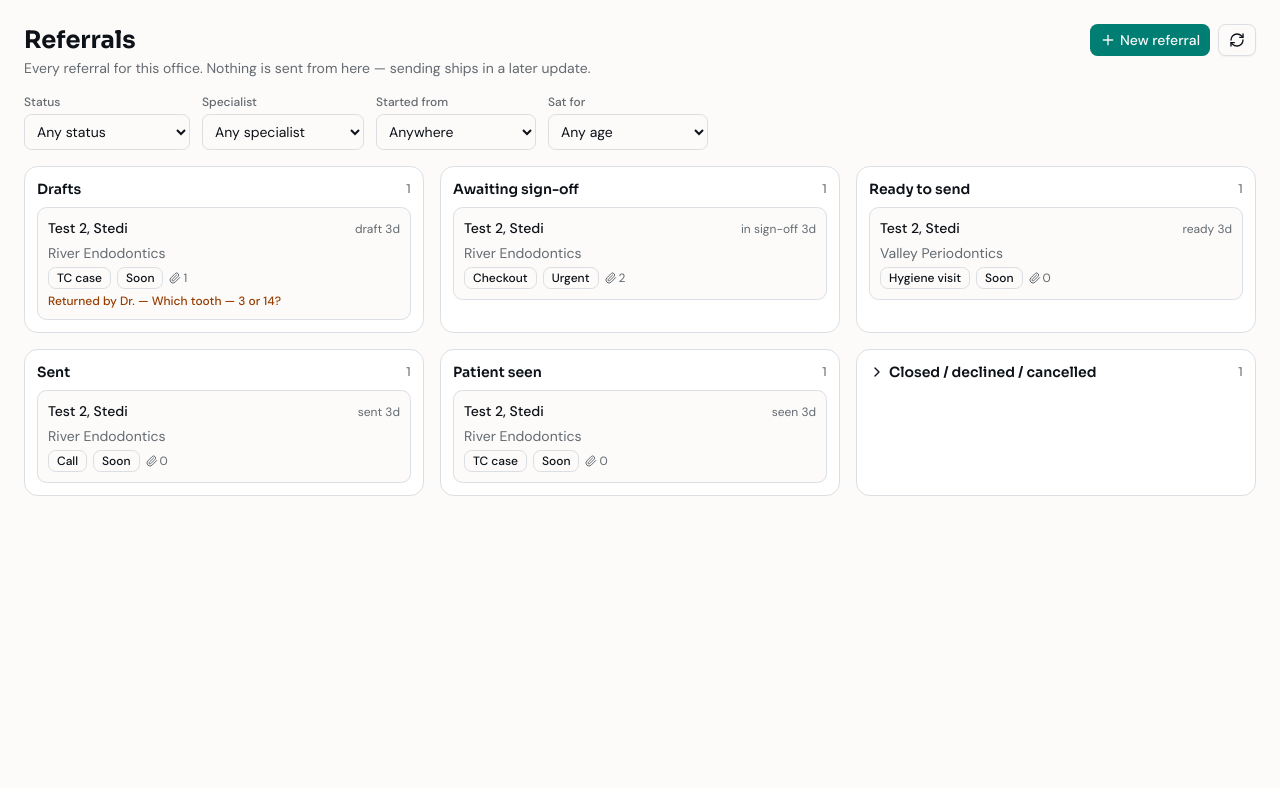
Scenario: the detail panel › a draft: history, files, and an edit that sends only what changed and shows the SERVER's answer
This screenshot has width=1280, height=788.
Click the 1st button with test id "tc-hub-card".
click(88, 228)  # box [37,207,411,320]
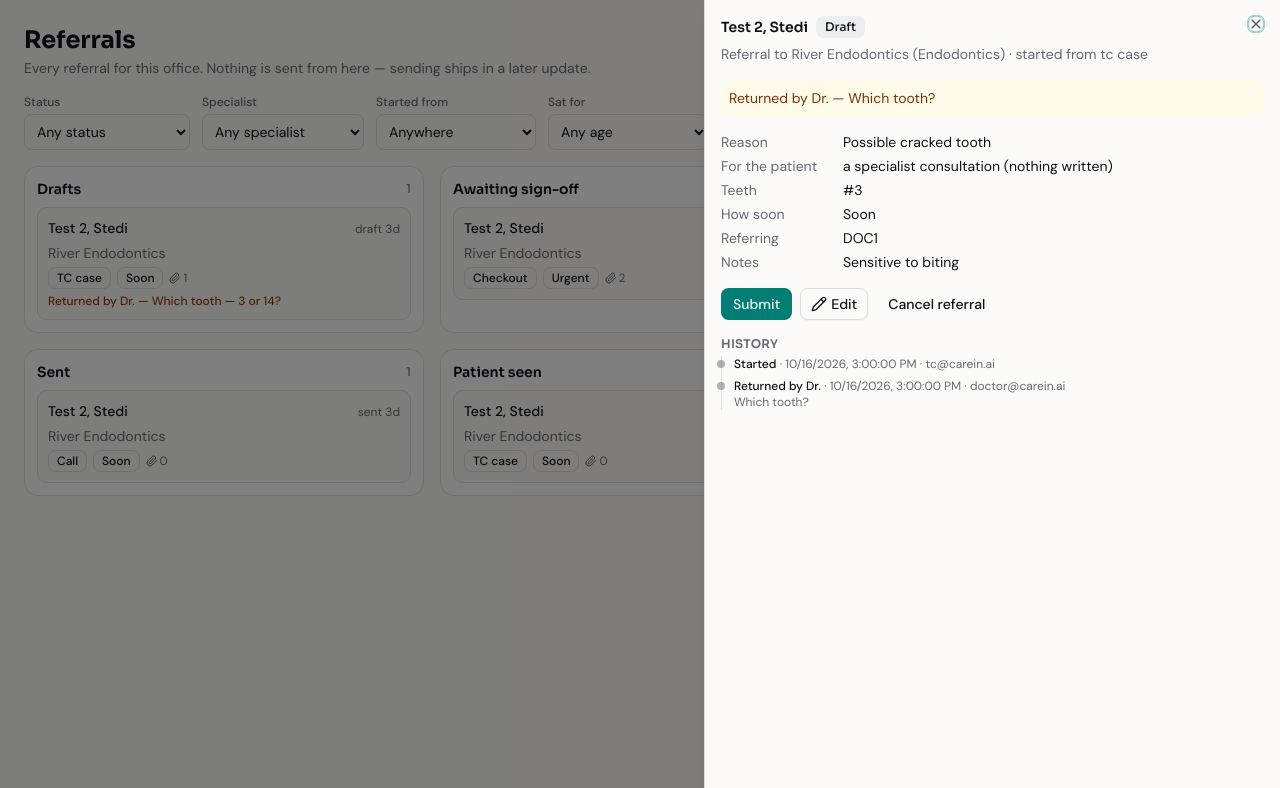
Result: the list with test id "referral-timeline" is shown at [721,356,1264,410]
Result: the text with test id "tc-hub-detail-returned" reads "Returned by Dr. — Which tooth?" at [729,89,935,107]
Result: the list with test id "referral-timeline" shows "Returned by Dr." at [734,378,821,394]
Click the button "Edit".
click(834, 304)  # box [800,288,868,320]
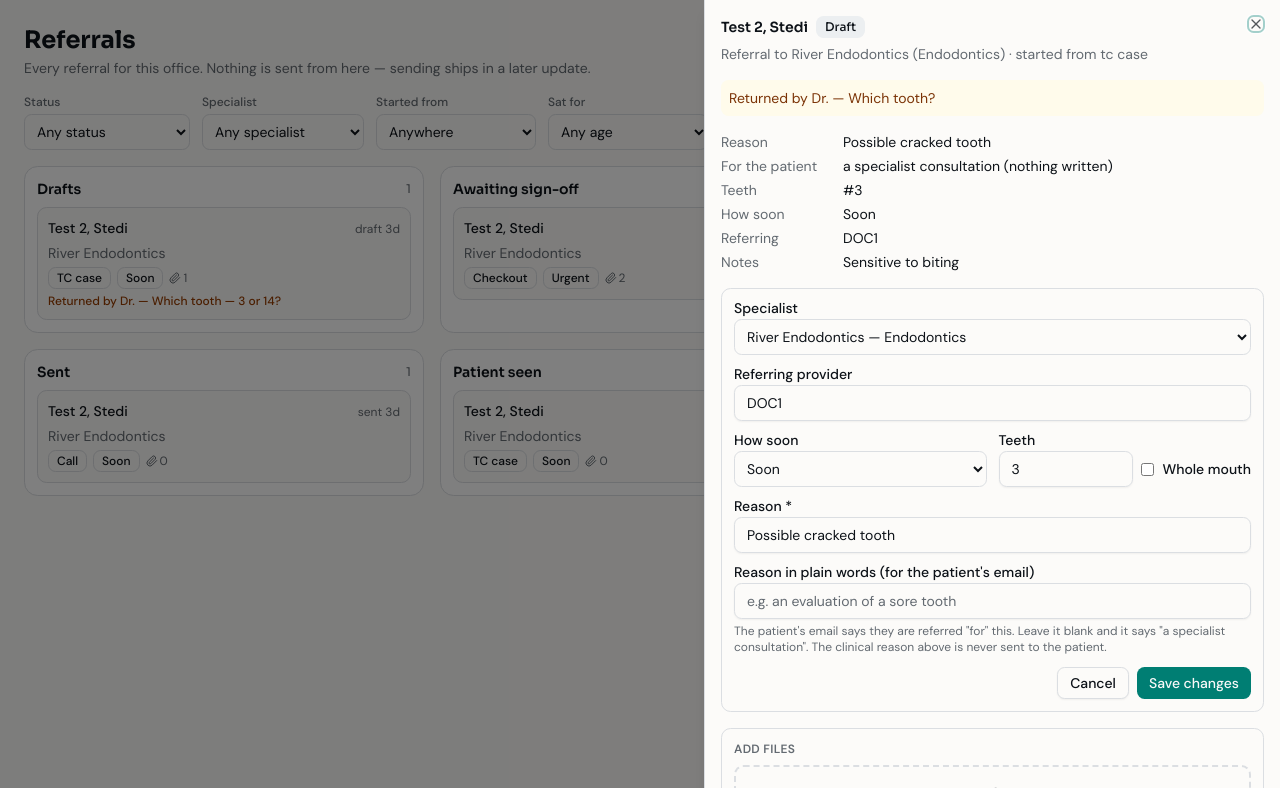
Select "Urgent" in the dropdown labelled "How soon" at [860, 469], box [734,451,986,487]
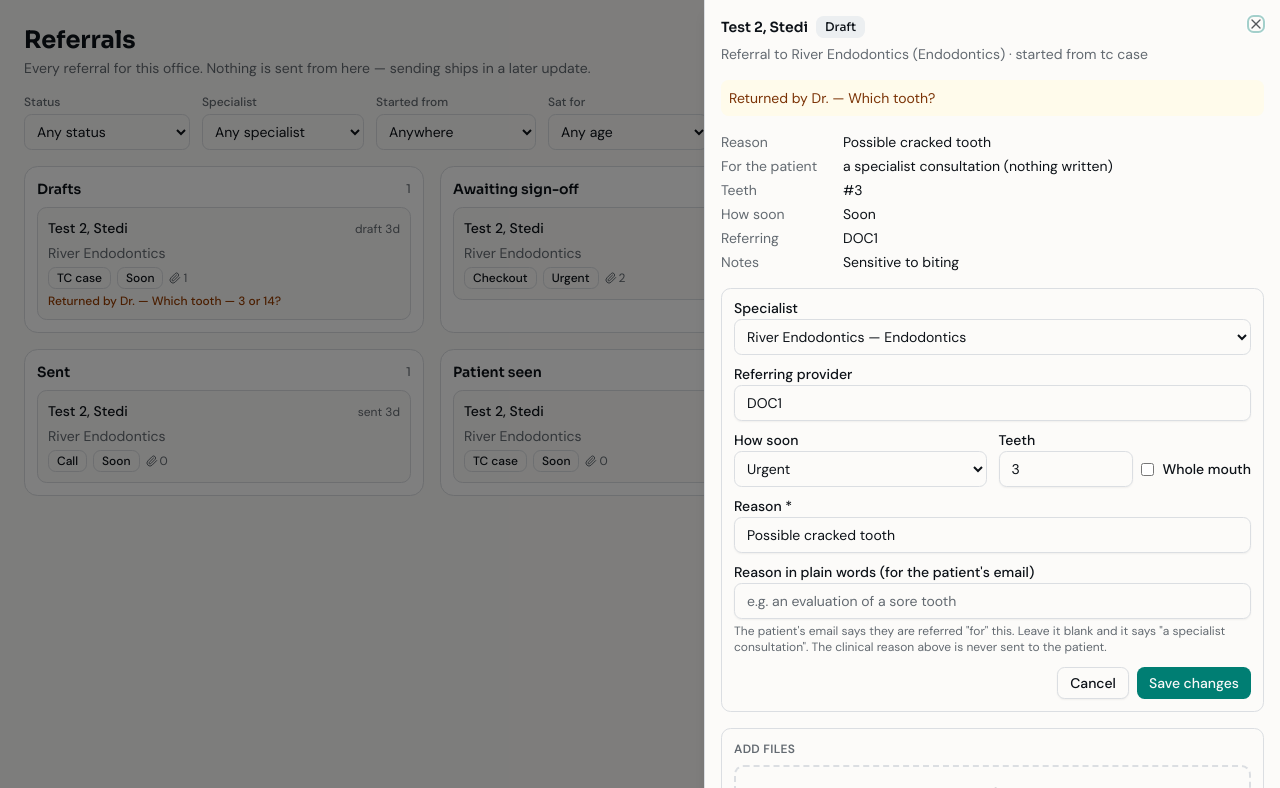
Replace the text in the field labelled "Teeth" with "3, 14" at [1066, 469], box [998,451,1133,487]
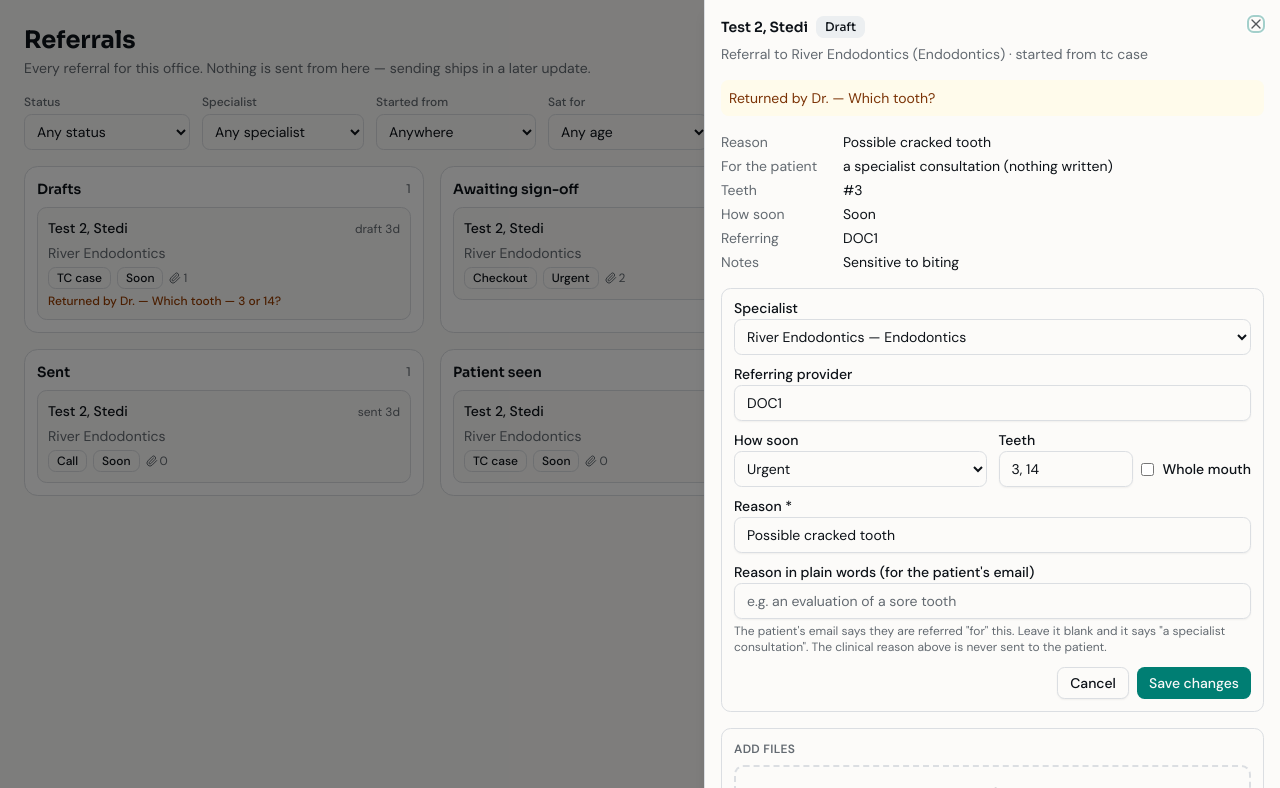
Click the button "Save changes".
click(1194, 683)  # box [1137,667,1251,699]
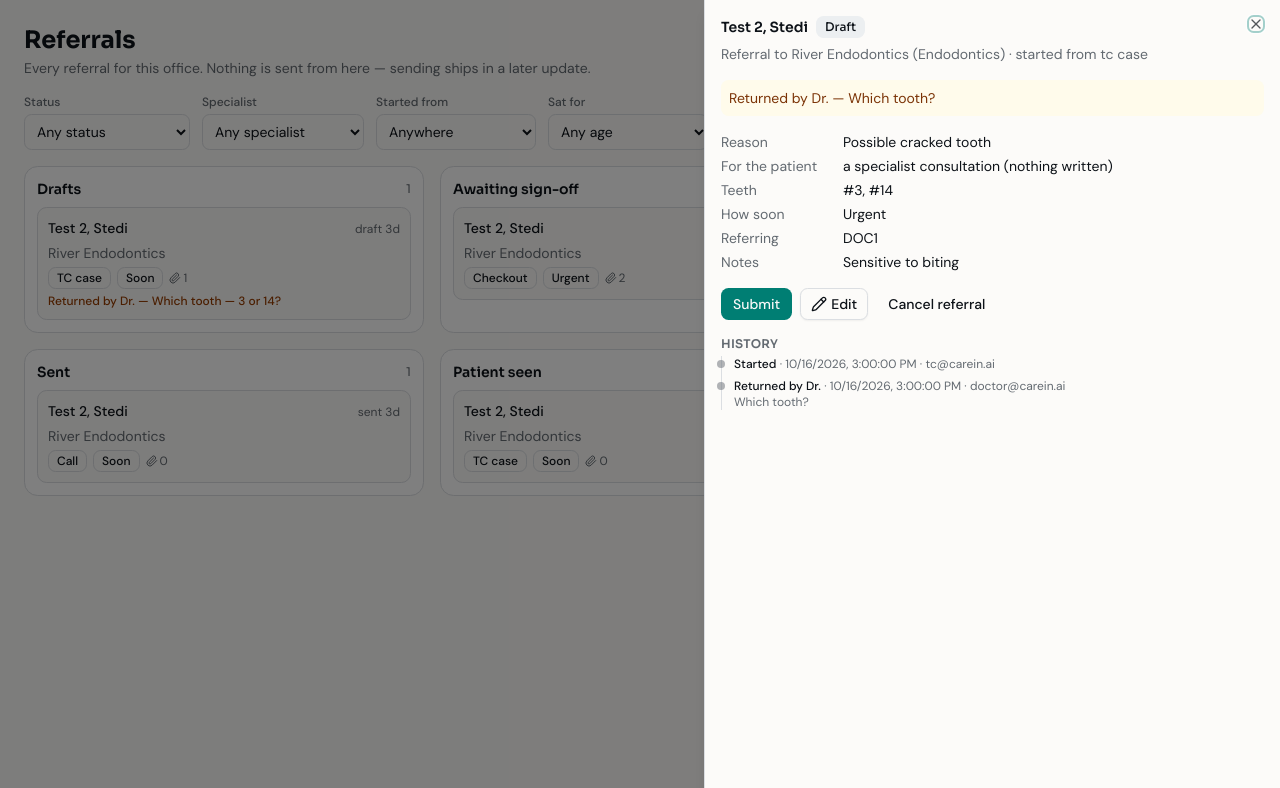
Result: the element with test id "referral-fields-form" is gone
Result: the dialog with test id "tc-hub-detail" shows "#3, #14" at [843,181,893,199]
